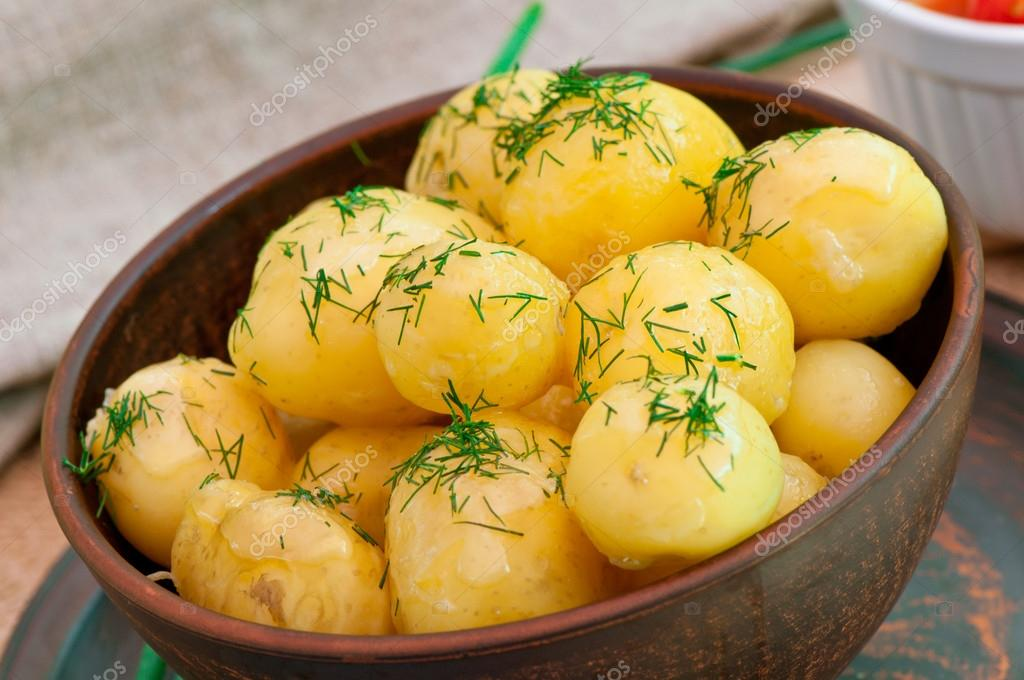boiled potatoes: (306, 196, 768, 519)
